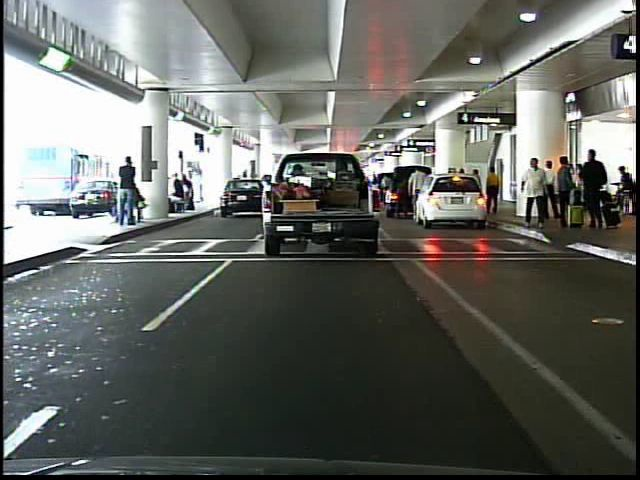person: (516, 154, 549, 236), (582, 145, 609, 233), (555, 152, 576, 228), (120, 158, 142, 230), (408, 162, 432, 223), (487, 164, 503, 217), (613, 160, 635, 194)
